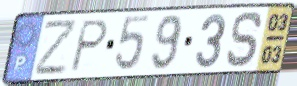3: (193, 12, 227, 70)
5: (113, 13, 152, 75)
9: (150, 13, 184, 72)
P: (67, 18, 110, 74)
S: (224, 10, 265, 69)
Z: (33, 17, 80, 78)
